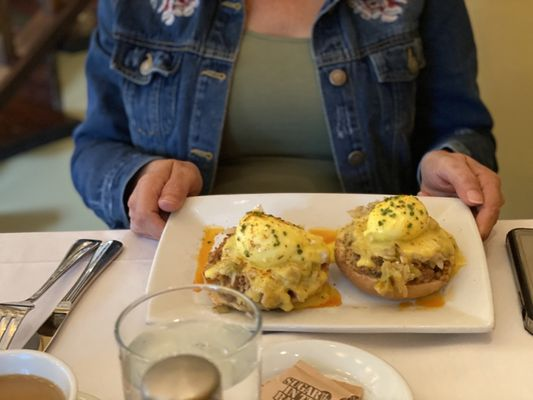pizza: (113, 283, 264, 400), (0, 349, 79, 400)
sandwich: (1, 239, 109, 352), (26, 240, 124, 353)
